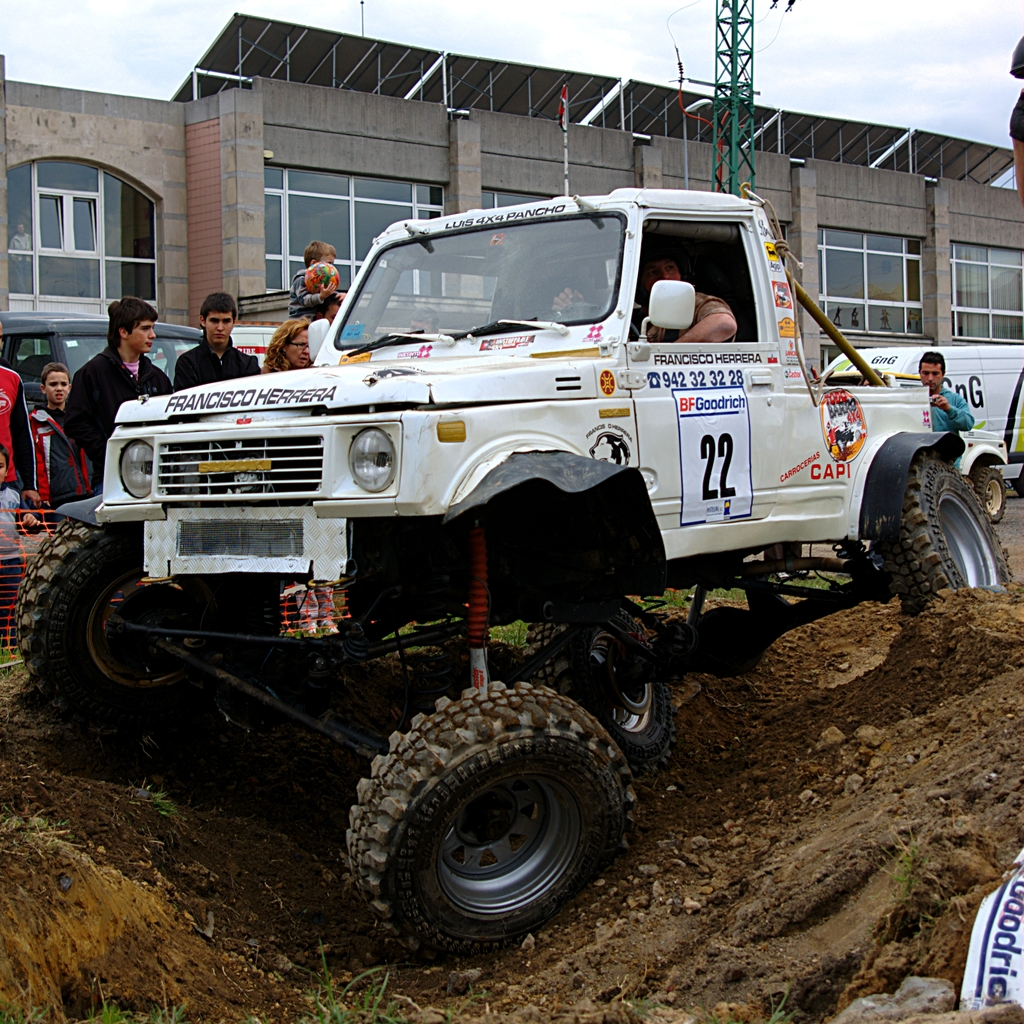face: (642, 256, 680, 296)
